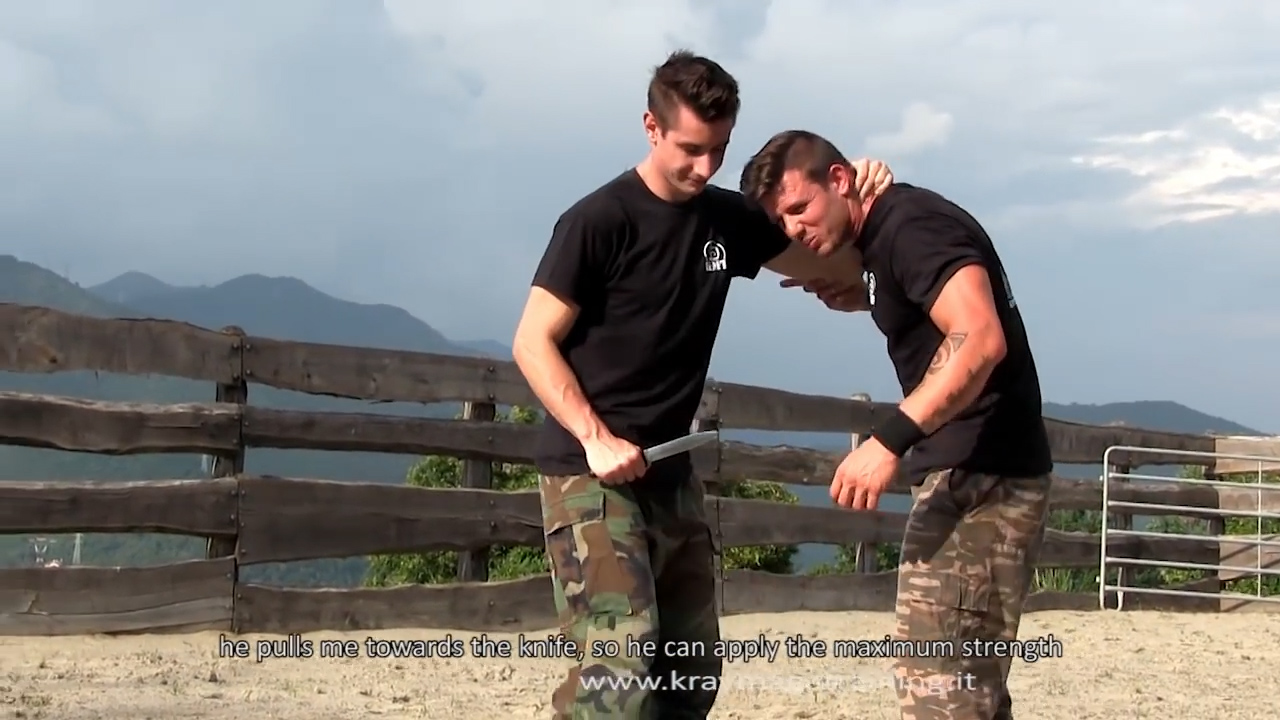knife: (585, 420, 726, 492)
